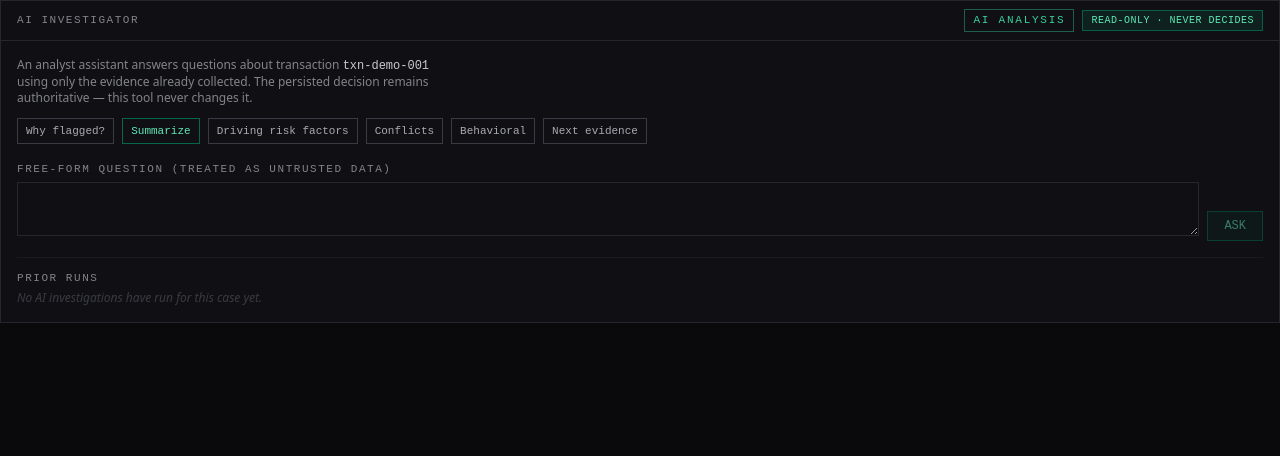
it: AiInvestigationPanel › surfaces provider rejection without rendering an answer
The width and height of the screenshot is (1280, 456).
Click the button "Why flagged?": {"x": 66, "y": 131} x1=17 y1=118 x2=114 y2=144
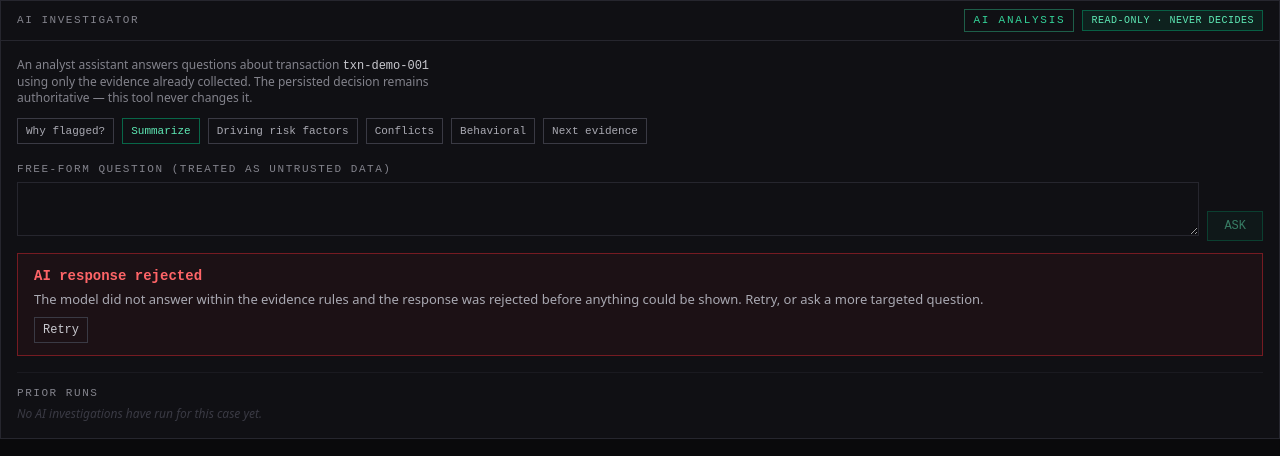
Now the text "AI response rejected" is shown, box x1=34 y1=268 x2=202 y2=284
